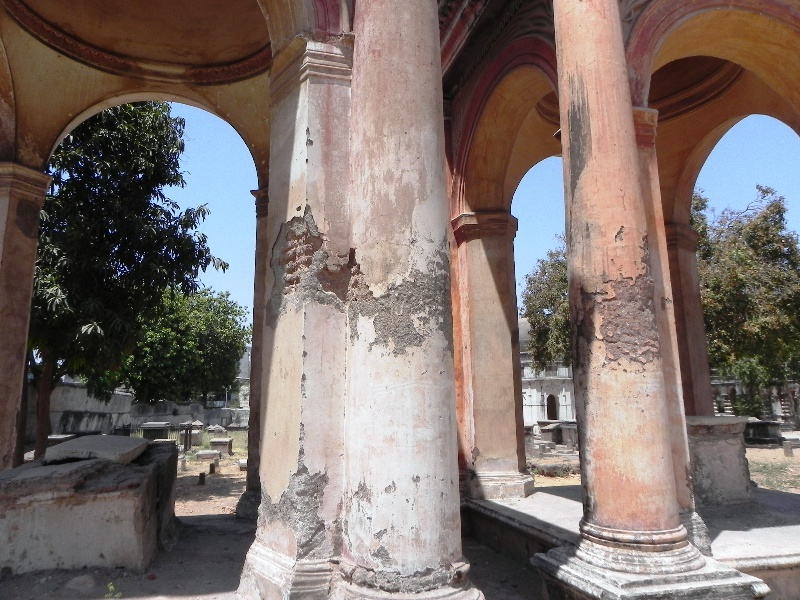Exposed Bricks: (281, 229, 315, 292)
Spalling: (319, 235, 459, 366), (574, 242, 664, 378), (257, 449, 327, 558), (335, 553, 452, 593), (13, 194, 39, 237)
